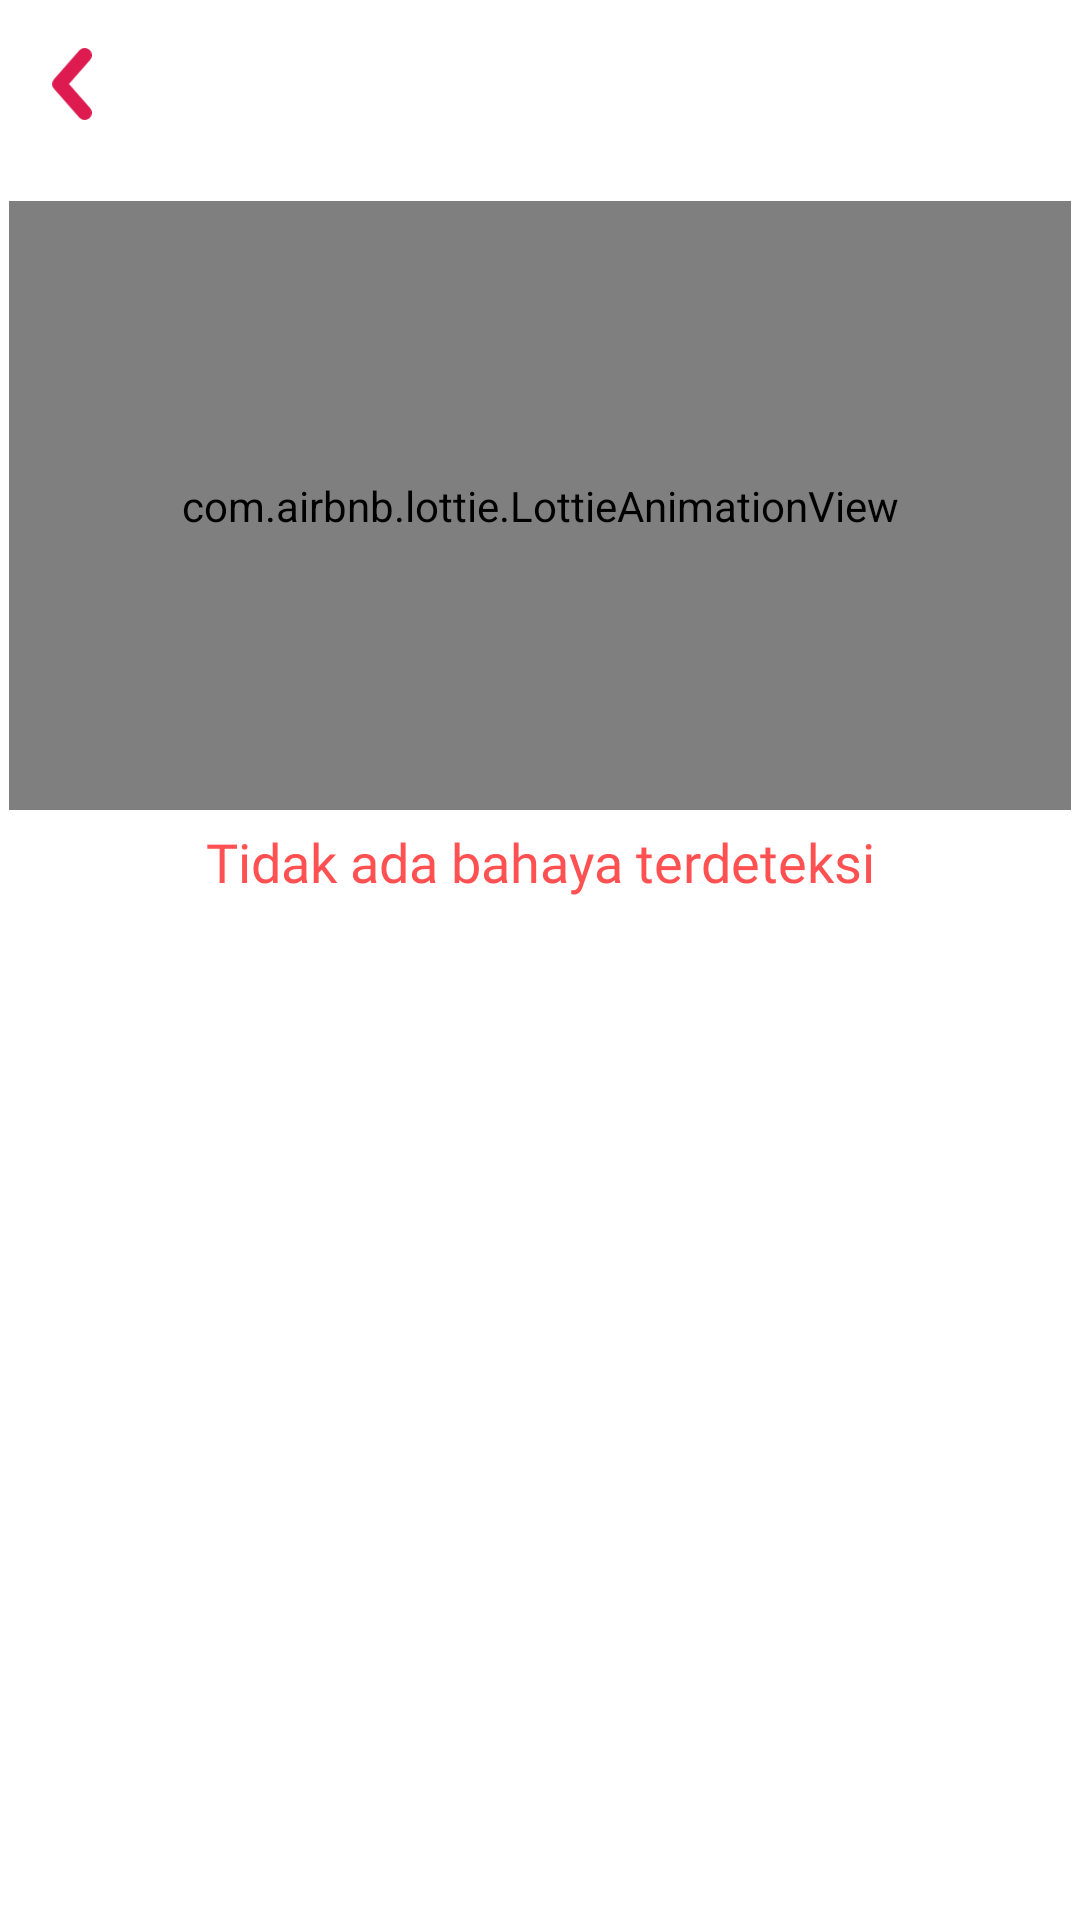

Point at icon controls on the screen. Image size 1080 x 1920, points as (x=x, y=y).
arrow: (x=72, y=84)
